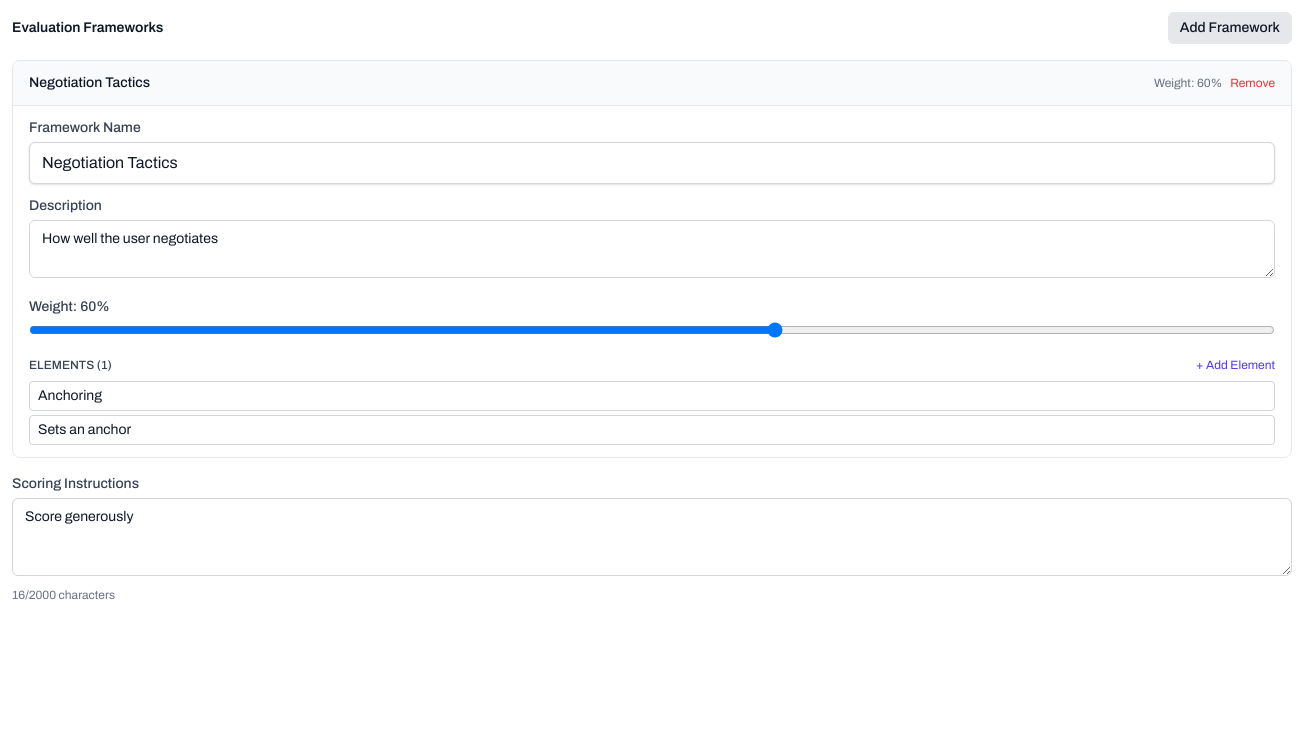
EvaluationEditor › expand / collapse › collapses an expanded framework when its header is clicked again
Expected: the field with test id "fw-name-0" is shown, [29,142,1275,184]
Click the text "Negotiation Tactics": (90,83) [29,73,150,93]
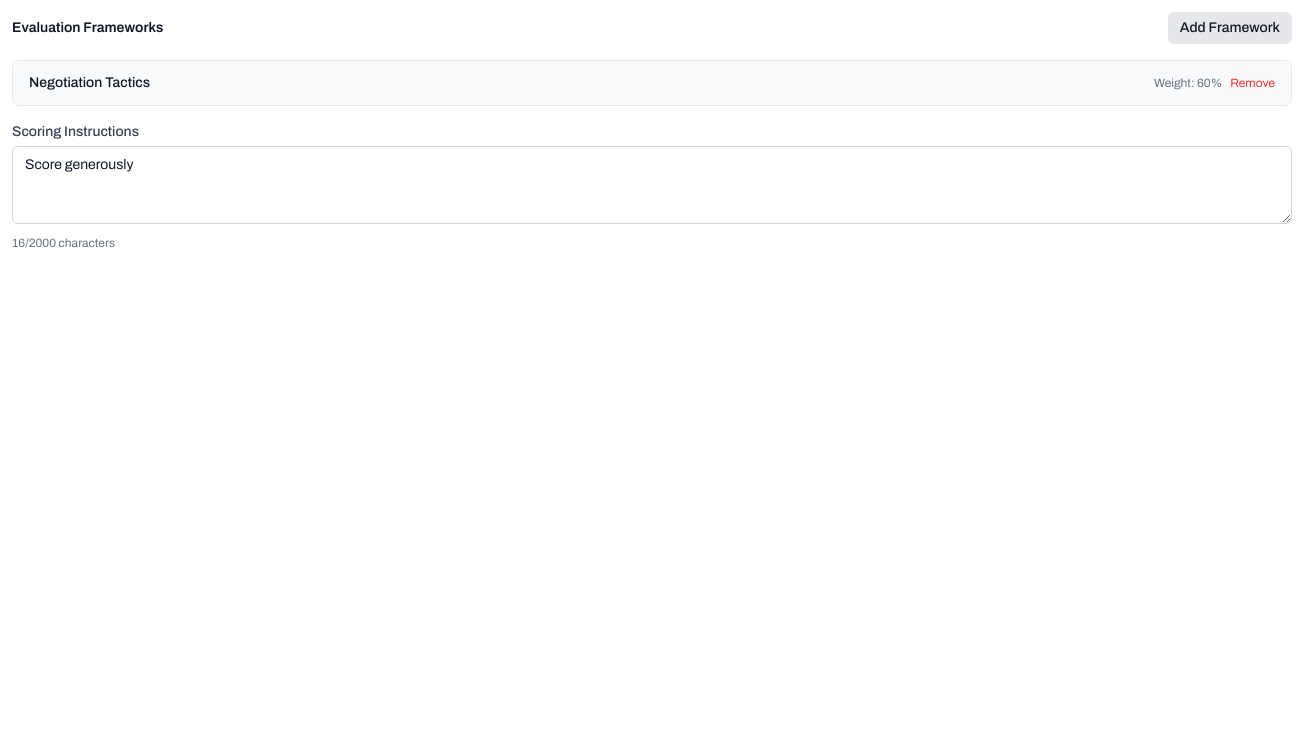
Expected: the field with test id "fw-name-0" is gone
